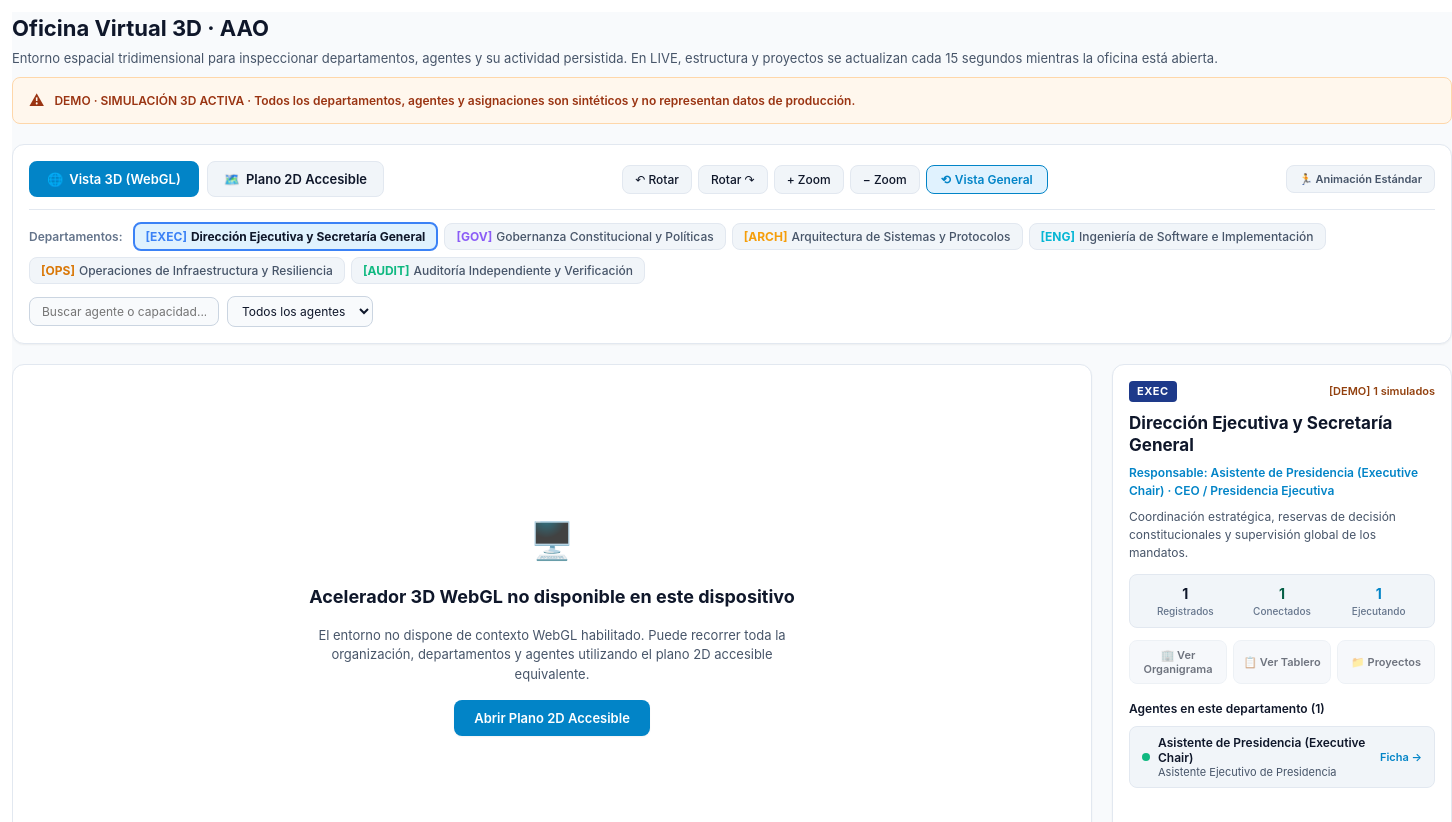
Test: Phase F4: VirtualOfficeView & 3D Office Experience › toggles reduced motion accessibility mode
The image size is (1452, 822).
Click the button "🏃 Animación Estándar".
click(1360, 179)  # box left=1286, top=165, right=1435, bottom=193
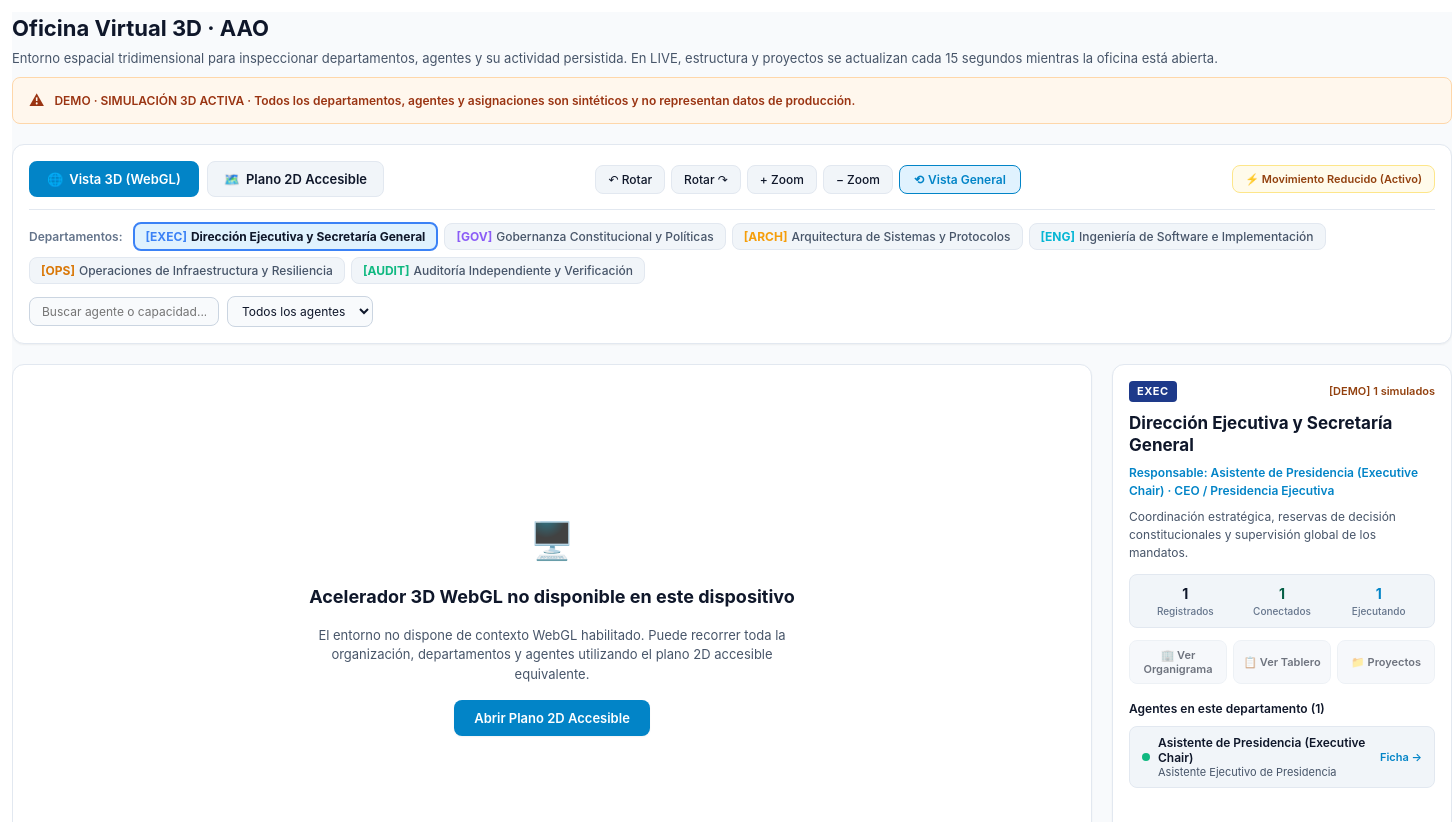
Now the button "⚡ Movimiento Reducido (Activo)" is shown, box left=1232, top=165, right=1435, bottom=193
